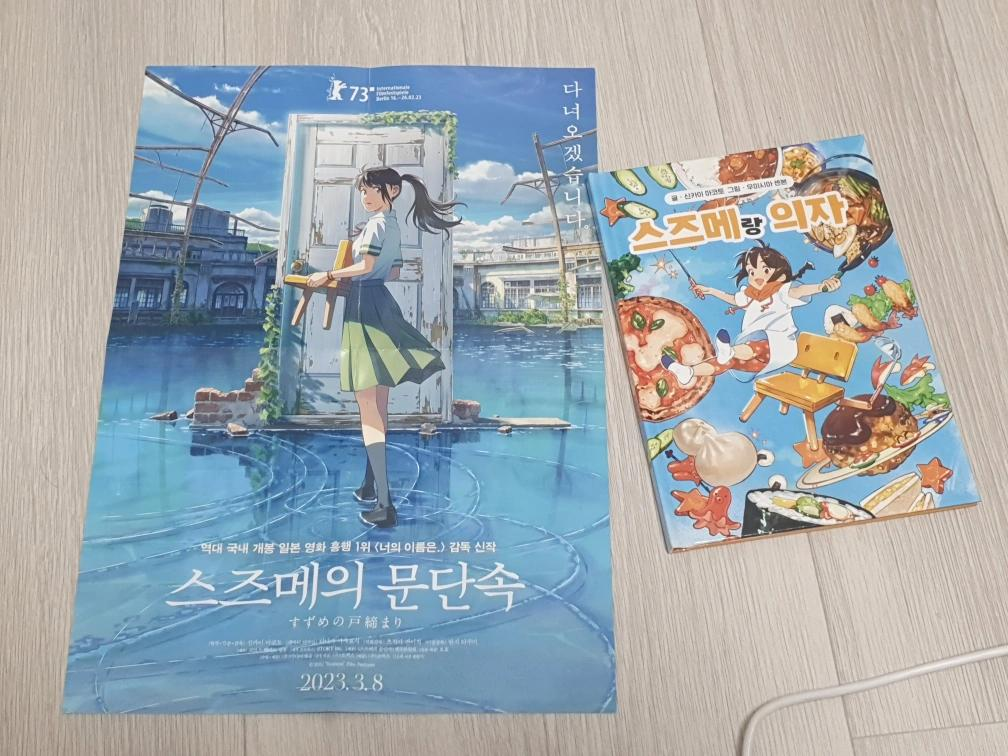book: (81, 61, 620, 719), (597, 133, 987, 553)
